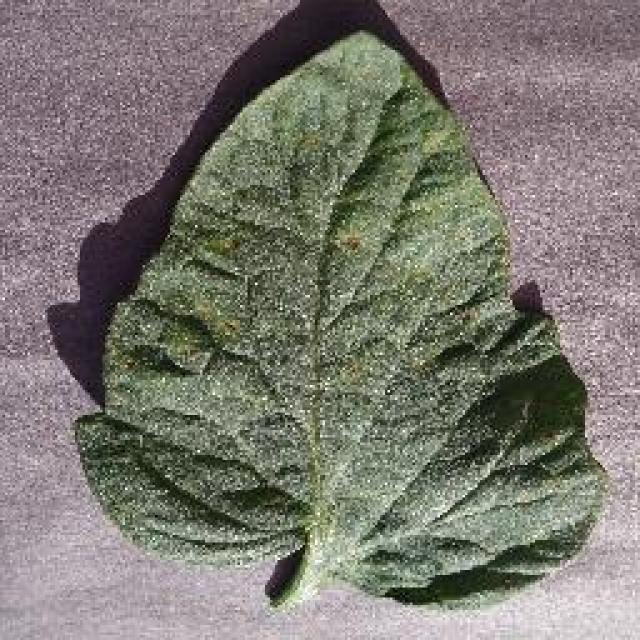Tomato Septoria spot leaf: (73, 30, 605, 615)
